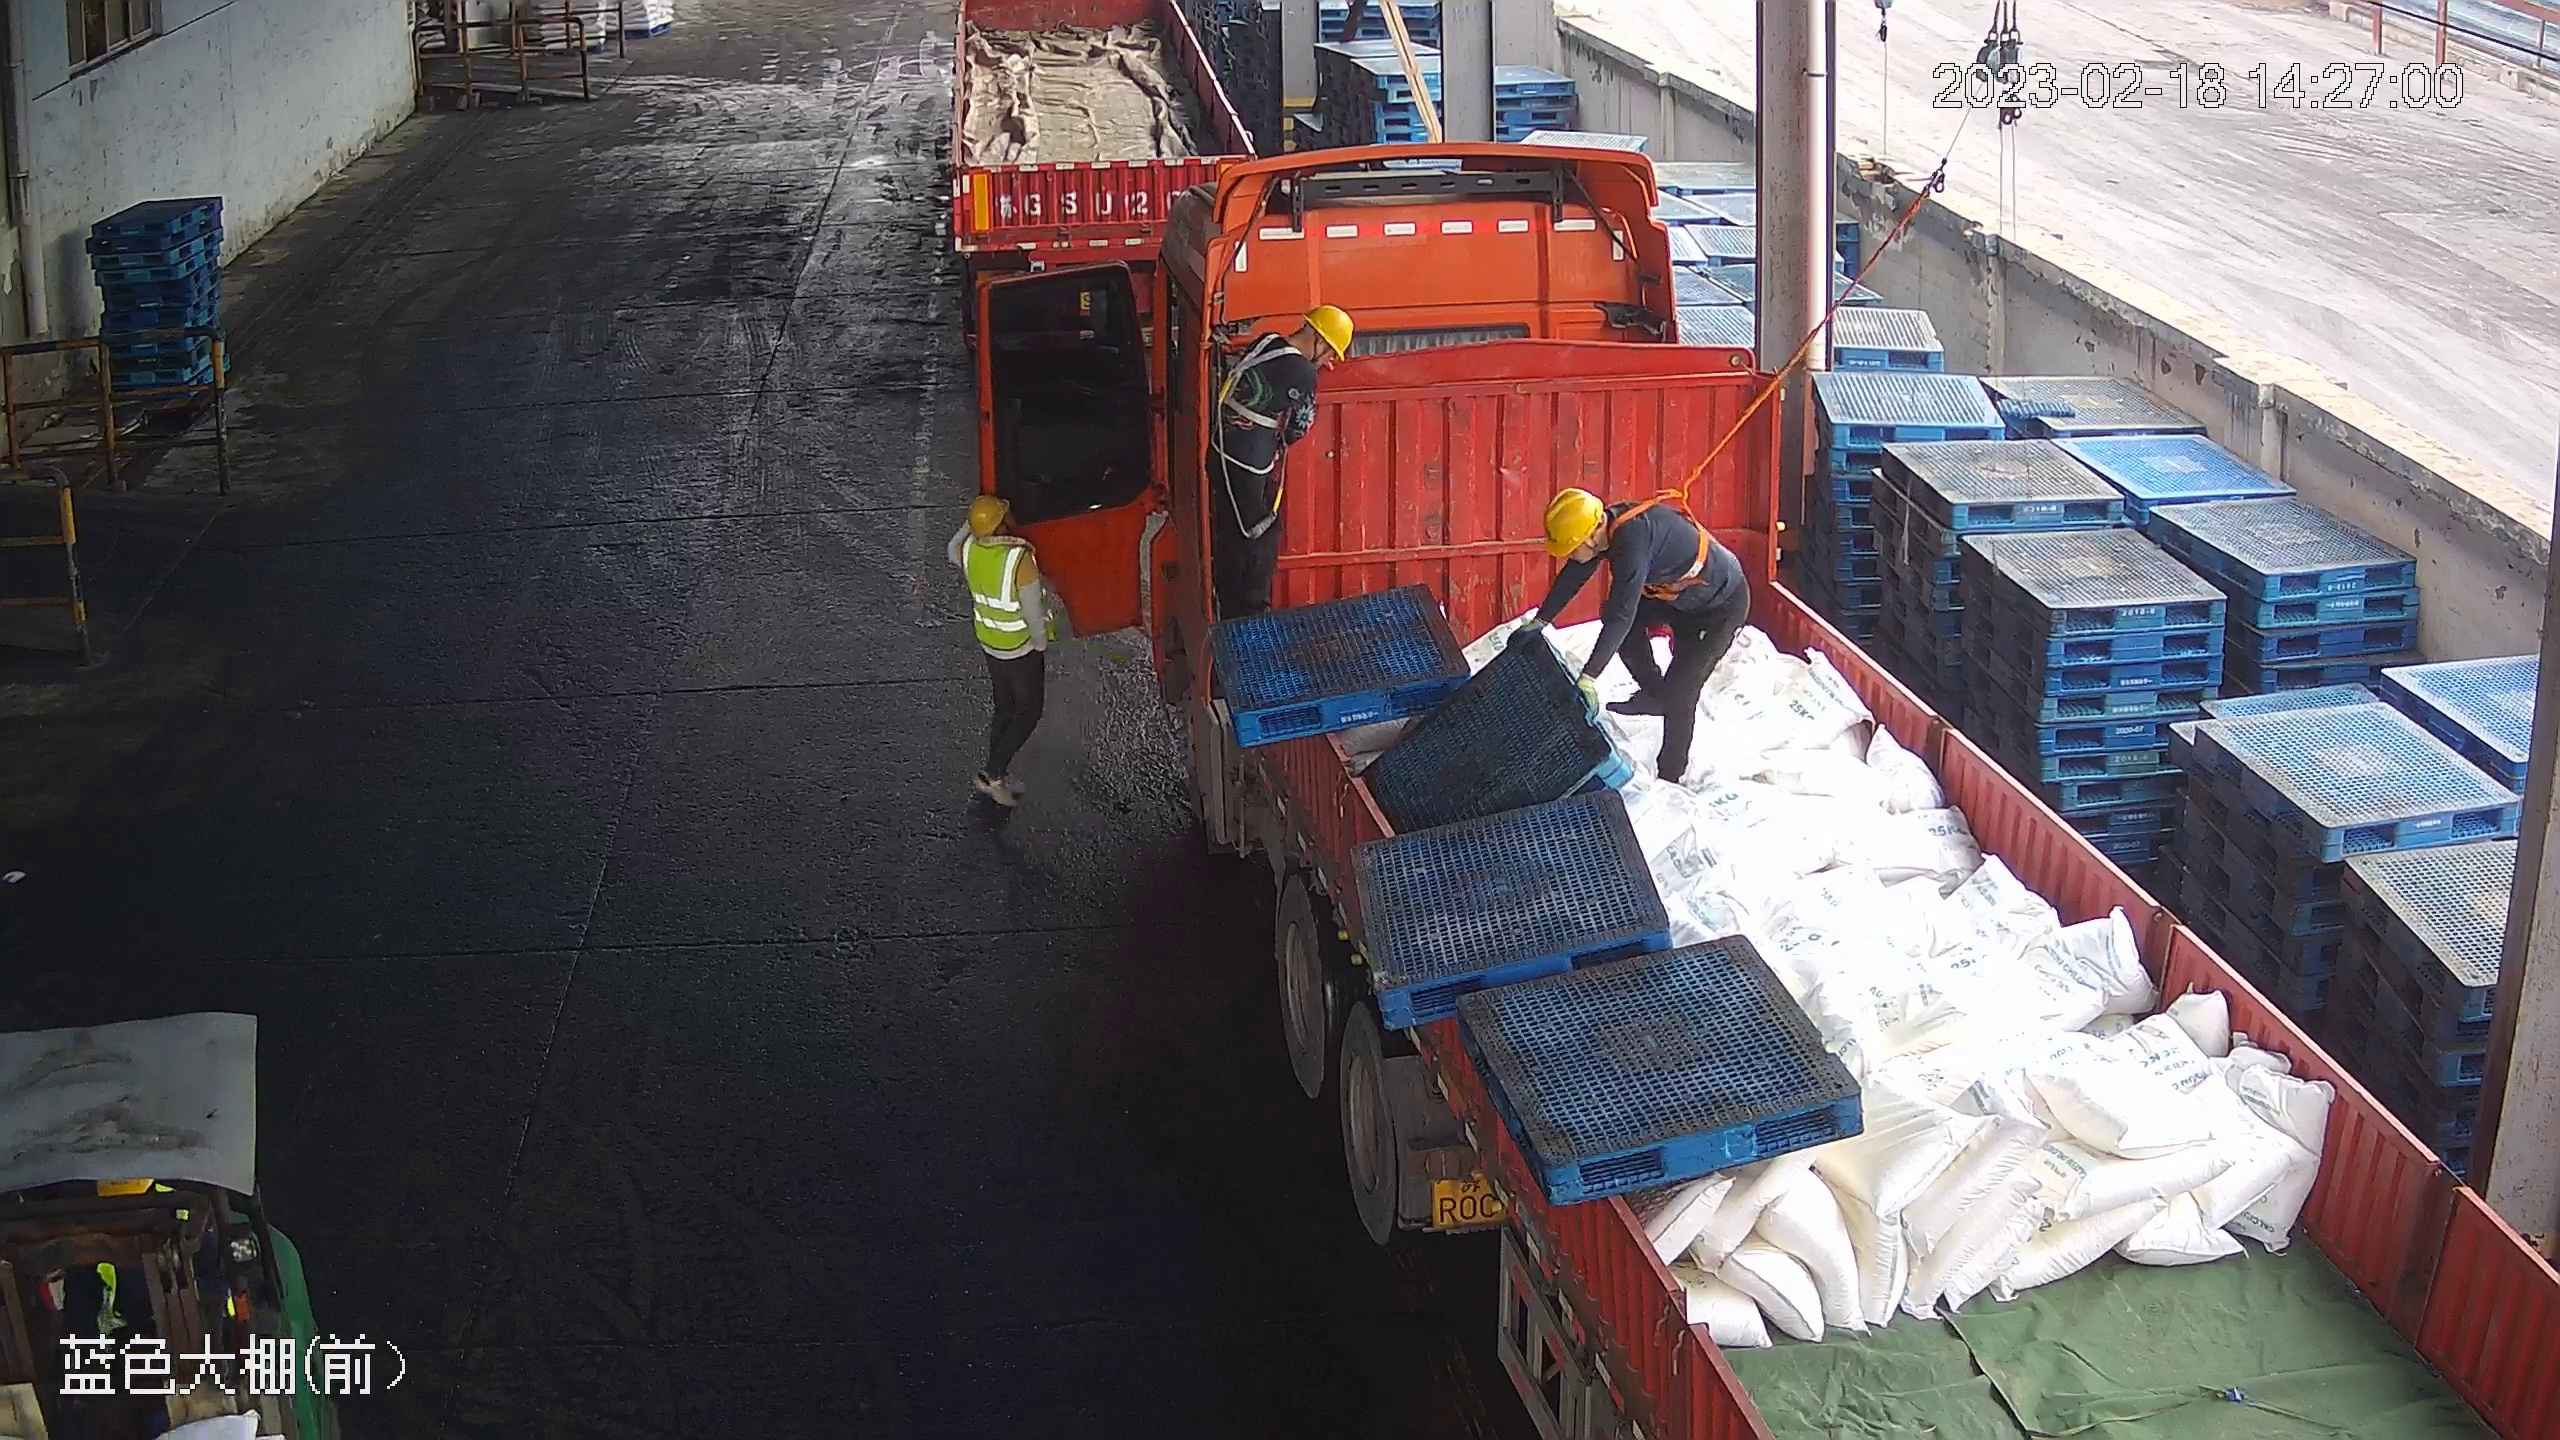belt: (1608, 484, 1714, 593), (1213, 332, 1297, 427)
head: (1539, 484, 1682, 586), (1237, 302, 1357, 403), (954, 492, 1047, 591), (1540, 485, 1610, 559)
helmet: (1540, 483, 1666, 574), (1539, 485, 1605, 558), (1301, 301, 1357, 360), (965, 493, 1010, 535)
people: (1524, 478, 1751, 789), (1204, 294, 1358, 623), (949, 482, 1070, 813)
truck: (1027, 146, 2560, 1433), (935, 4, 1265, 310)
